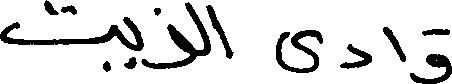X: (0, 0, 113, 76), (158, 0, 192, 73), (277, 25, 322, 77), (413, 24, 451, 83), (211, 1, 231, 63), (124, 12, 142, 73), (342, 39, 371, 73), (194, 0, 209, 64), (384, 22, 405, 66)
